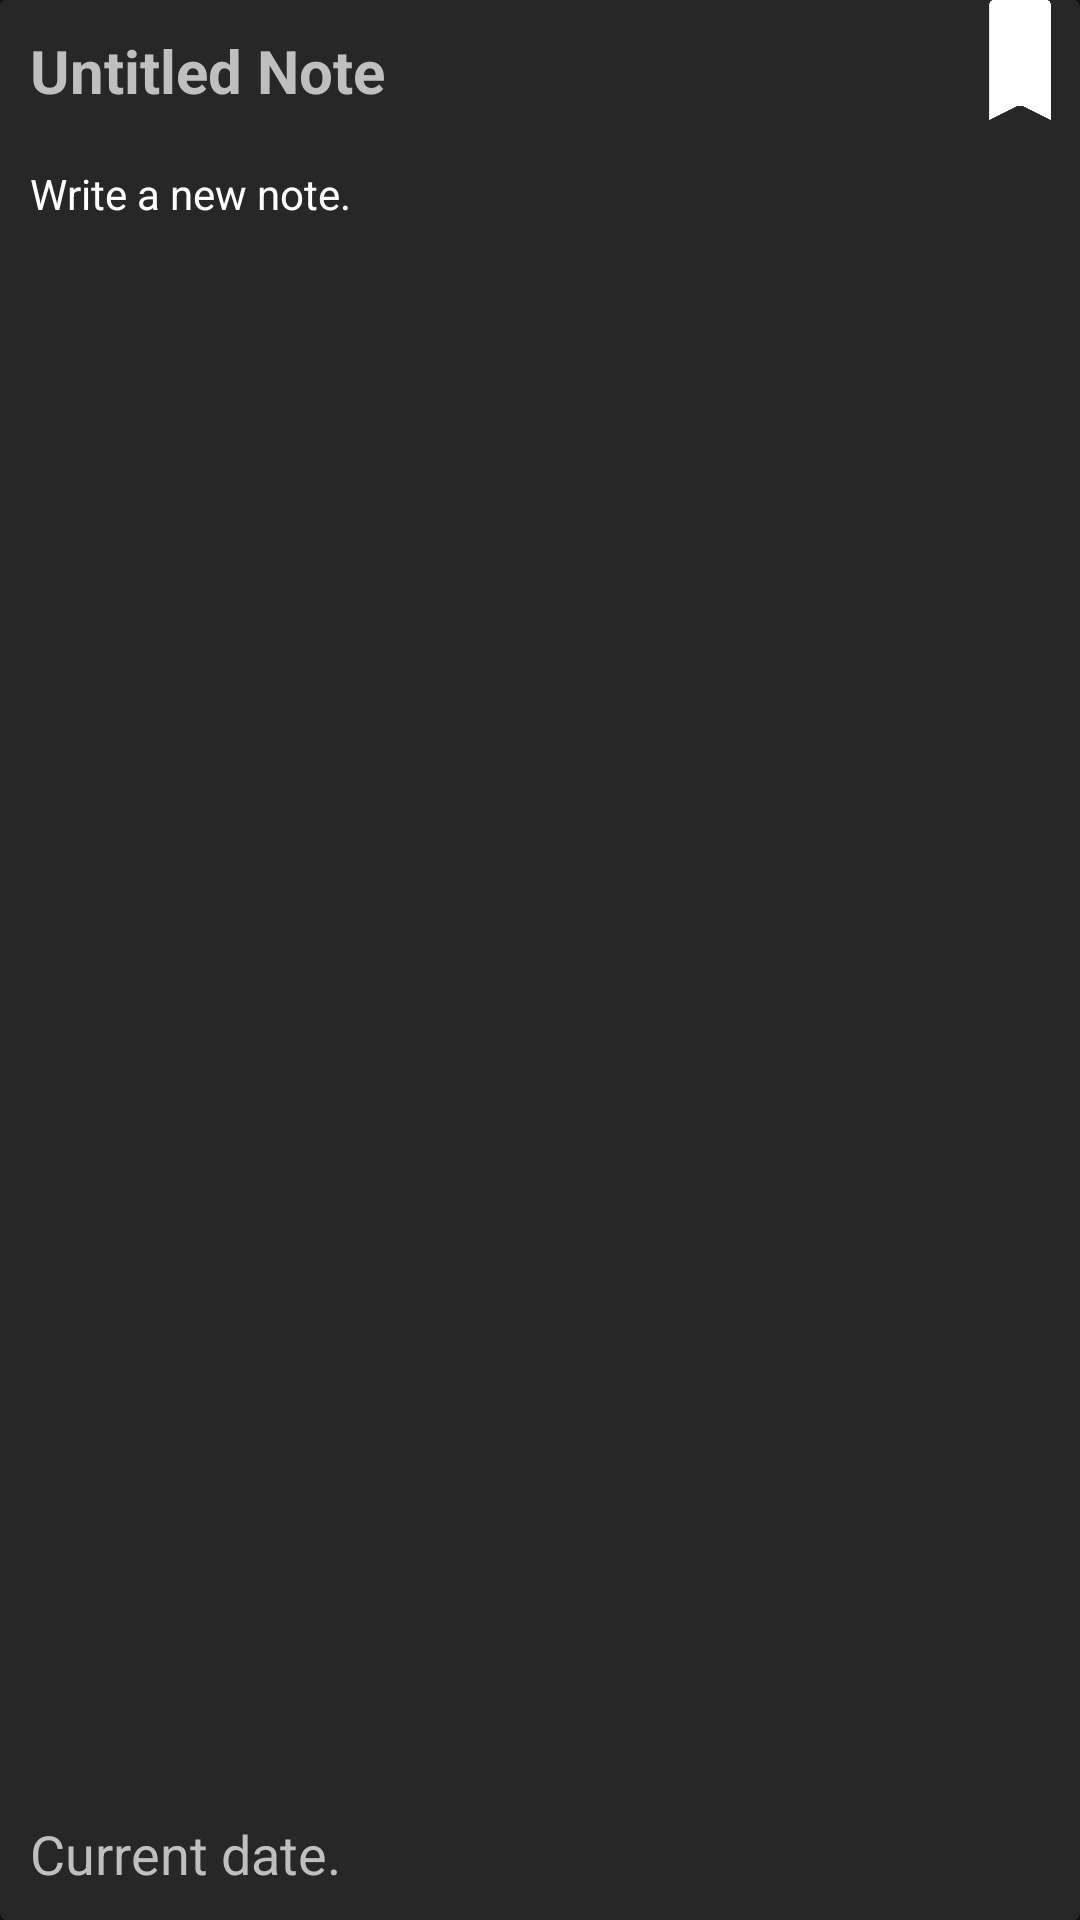

Named icons in this screenshot (1080x1920) and their bounding boxes, BBox(x1, y1, x2, y2):
flaticon tag: BBox(989, 0, 1051, 120)
